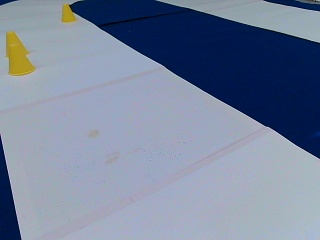cone: (5, 32, 35, 74), (60, 4, 75, 22)
